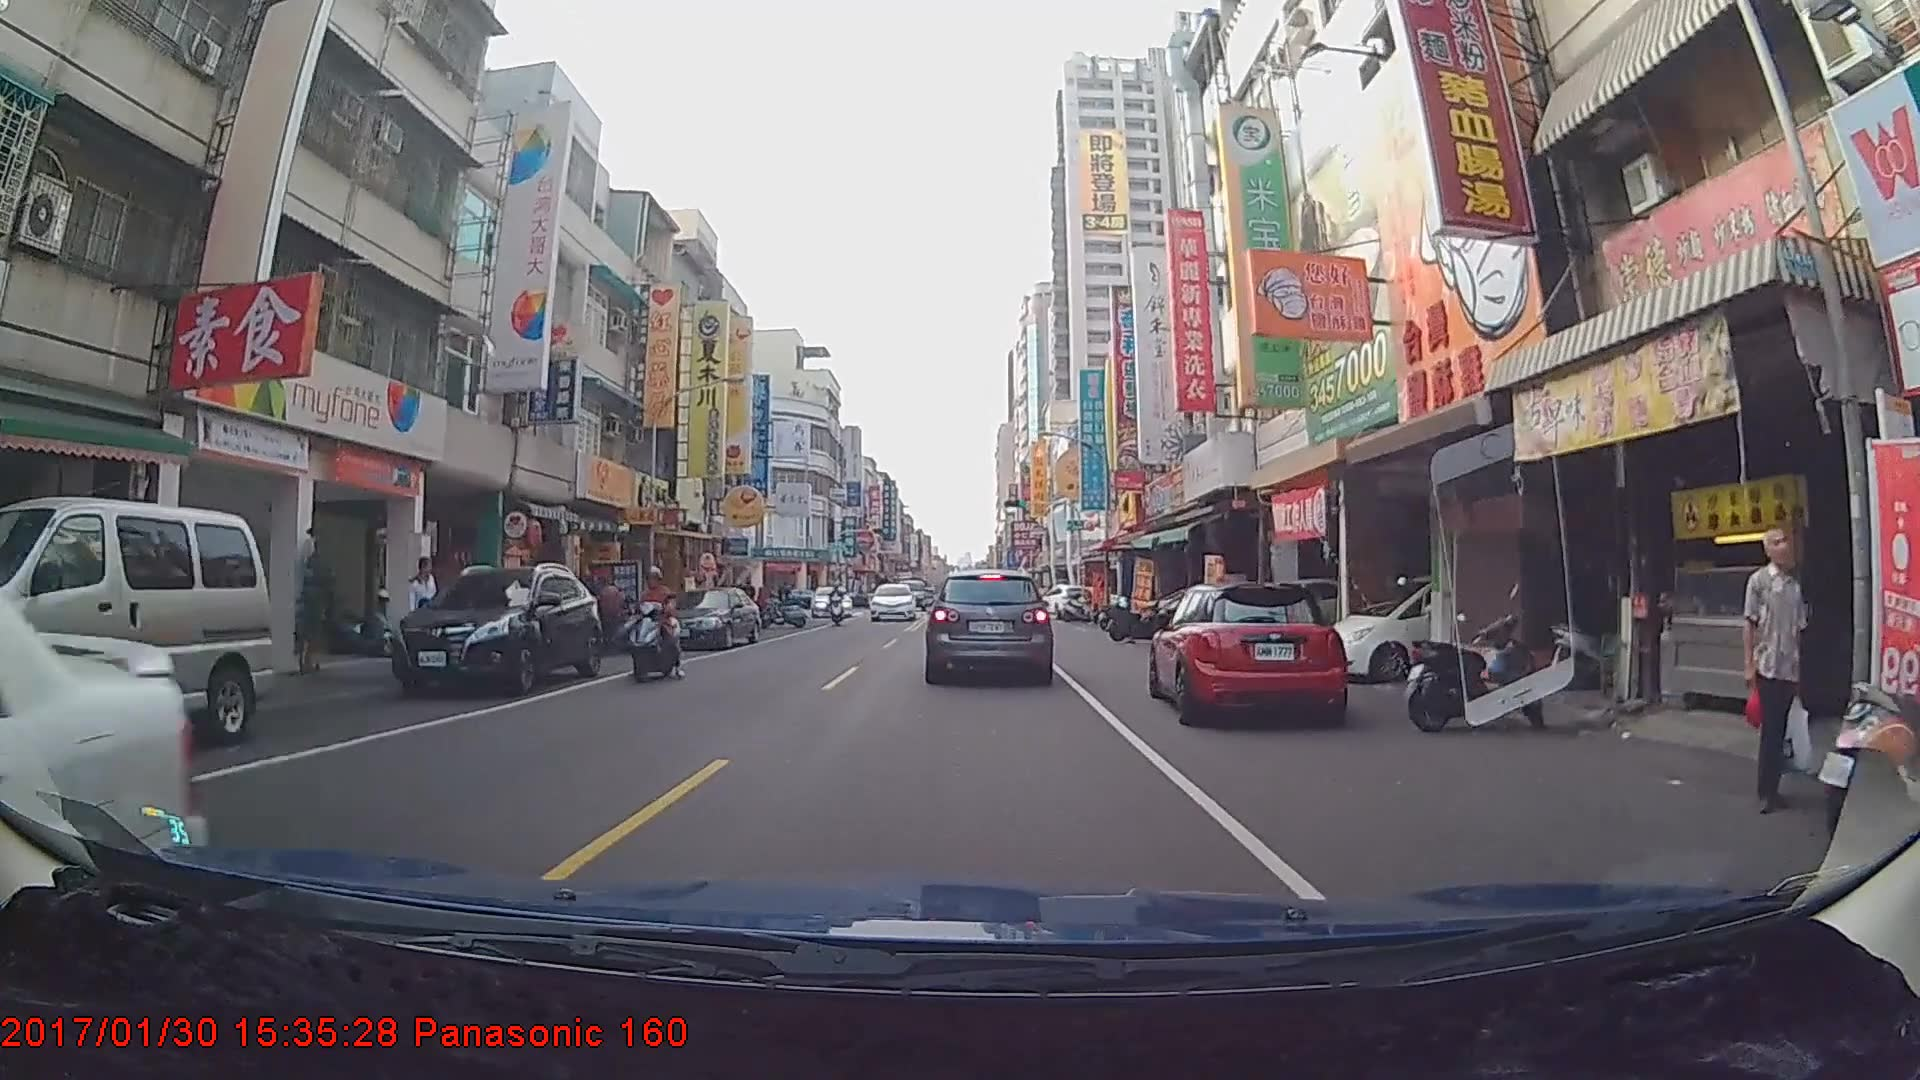pedestrian: (1744, 526, 1810, 817), (403, 556, 441, 679)
rider: (626, 568, 684, 685), (825, 579, 852, 628)
vehicle: (0, 539, 205, 1080), (0, 498, 274, 745), (1151, 576, 1349, 725), (388, 563, 601, 695), (924, 565, 1053, 682), (649, 585, 760, 649), (1035, 581, 1089, 618), (866, 580, 915, 620), (810, 586, 851, 617)
